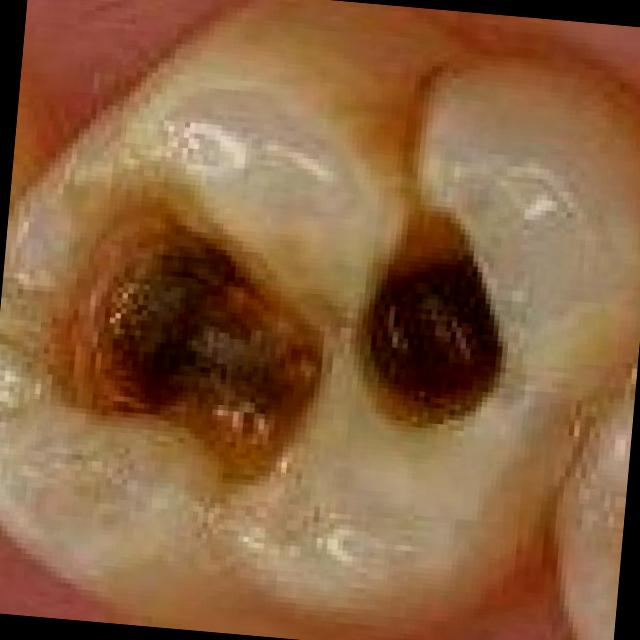caries: (5, 157, 348, 532), (342, 181, 556, 467)
